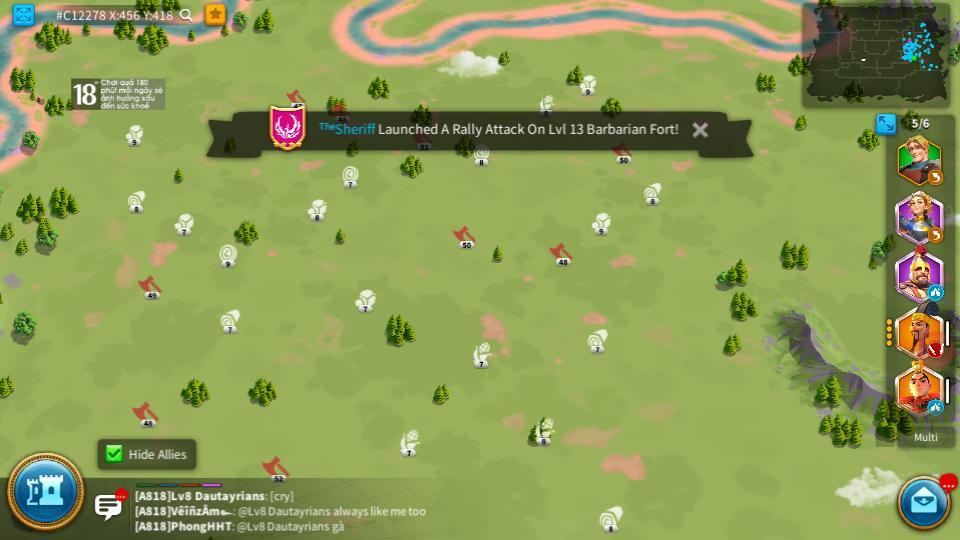march_attacking: (928, 347, 942, 358)
march_idle: (927, 401, 945, 415), (929, 286, 942, 299)
march_returning: (927, 170, 944, 185), (926, 229, 943, 242)
